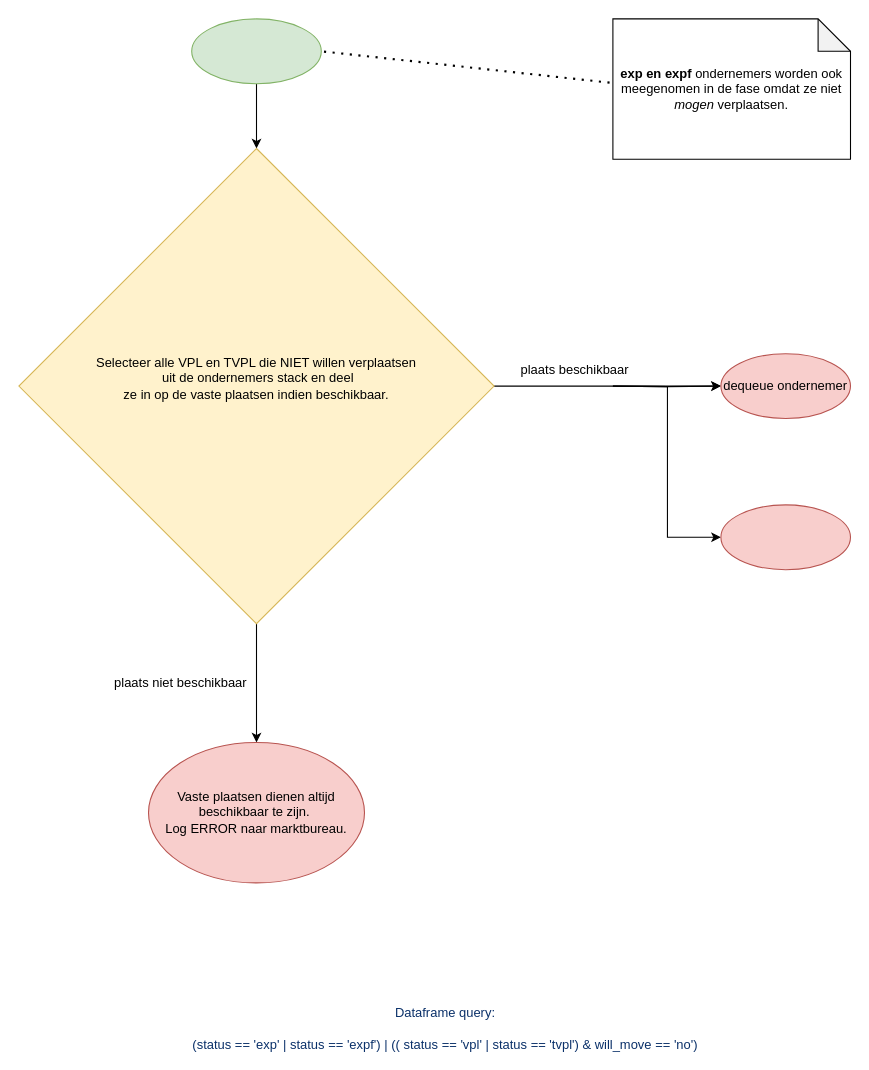
Some shapes in this 869 by 1070 pixel diagram are drawn without their labels. Each missing label, with the box of its shape:
dequeue kraam: (720, 504, 850, 570)
FASE 2 VPL en TVPL: (191, 18, 321, 84)
